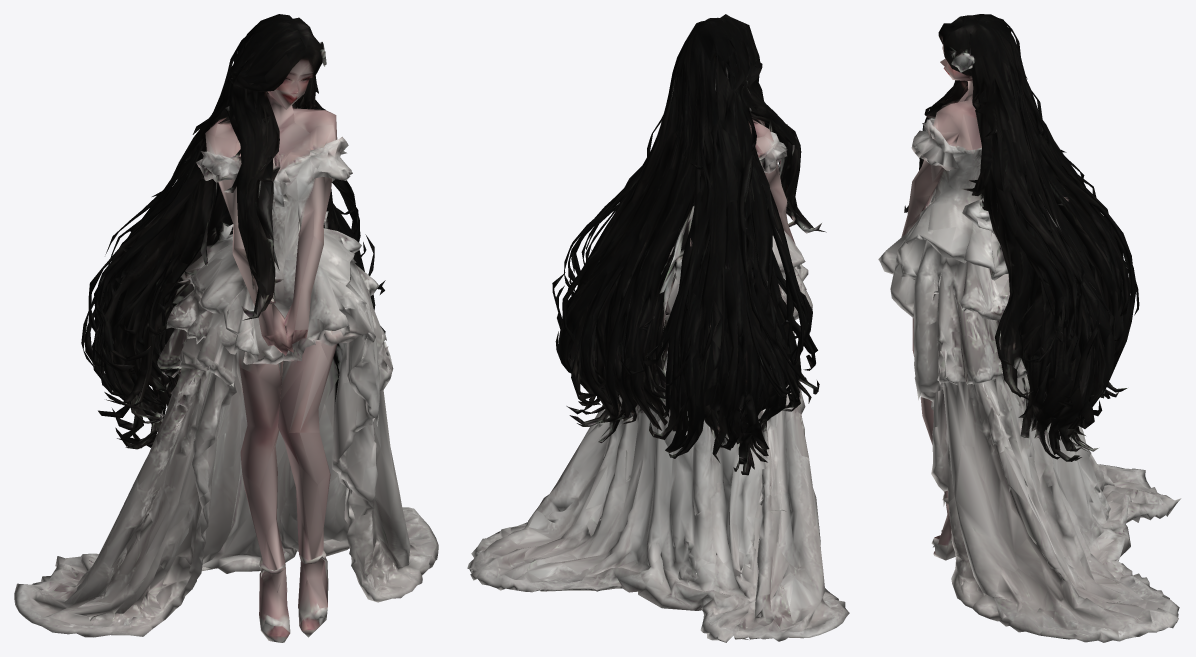
Rendered from MidnightLace.glb.
3 renders of one model, left to right at view 1: azimuth 30°, elevation 25°; view 2: azimuth 150°, elevation 25°; view 3: azimuth 270°, elevation 25°, orthographic. The views are drawn at different scales.
Visible parts, largest first — view 1: mesh_node; view 2: mesh_node; view 3: mesh_node.
Part boxes in pixels (left/top/right/bottom): mesh_node: left=14, top=14, right=438, bottom=642; mesh_node: left=467, top=14, right=849, bottom=642; mesh_node: left=878, top=14, right=1181, bottom=642.
Bounding box in the file's own units: 1.18 × 1.7 × 0.8637.
1 material, 1 textured.
